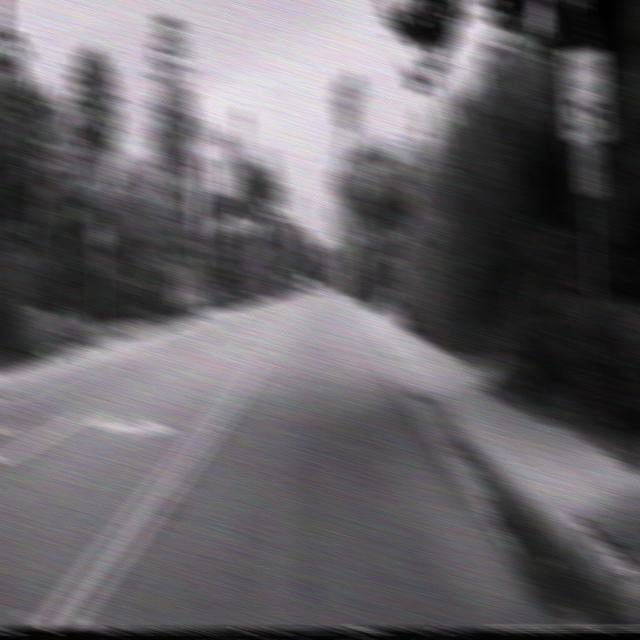speedLimit35: (560, 44, 612, 146)
